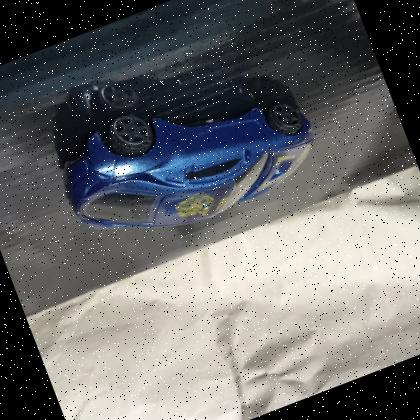Car: (41, 47, 338, 271)
